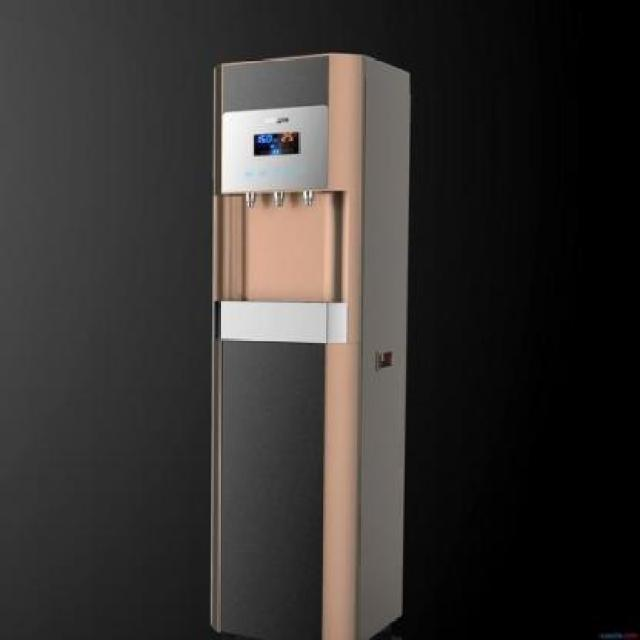cooler: (206, 49, 412, 640)
